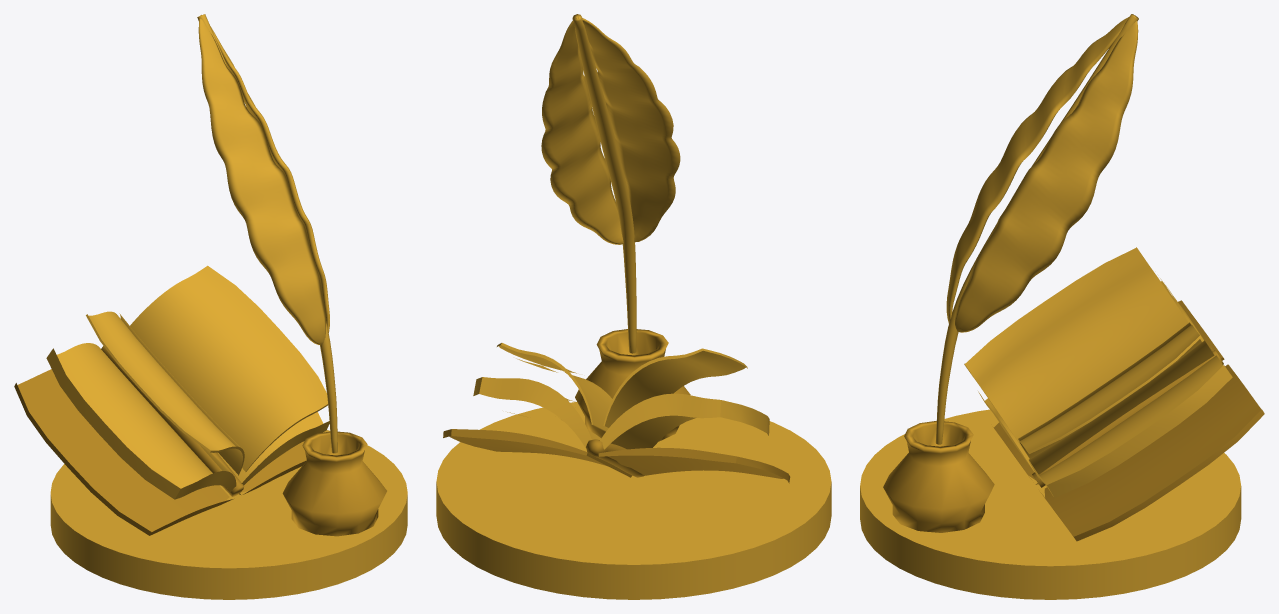
The model's file is literature.glb.
3 views of the same model, side by side, from view 1: azimuth 30°, elevation 25°; view 2: azimuth 150°, elevation 25°; view 3: azimuth 270°, elevation 25° (orthographic). The views are drawn at different scales.
Visible parts, largest first — view 1: gold_cap, leaf_l, vane_b, pages_r, cover_r, ink_bottle, leaf_r, vane_a, pages_l, quill_shaft, cover_l, spine; view 2: gold_cap, vane_b, vane_a, pages_r, quill_shaft, leaf_r, ink_bottle, cover_r, pages_l, cover_l, leaf_l, spine; view 3: gold_cap, leaf_r, vane_a, cover_l, pages_l, ink_bottle, vane_b, leaf_l, quill_shaft, spine, cover_r, pages_r.
Part boxes in pixels (left/top/right/bottom): gold_cap: left=50, top=430, right=407, bottom=599; leaf_l: left=130, top=265, right=327, bottom=471; vane_b: left=198, top=15, right=325, bottom=344; pages_r: left=46, top=343, right=236, bottom=499; cover_r: left=14, top=369, right=233, bottom=535; ink_bottle: left=282, top=431, right=386, bottom=536; leaf_r: left=86, top=311, right=244, bottom=475; vane_a: left=201, top=15, right=329, bottom=332; pages_l: left=217, top=412, right=329, bottom=485; quill_shaft: left=197, top=14, right=337, bottom=453; cover_l: left=239, top=441, right=306, bottom=494; spine: left=101, top=346, right=244, bottom=496; gold_cap: left=436, top=402, right=831, bottom=599; vane_b: left=578, top=16, right=680, bottom=242; vane_a: left=541, top=17, right=623, bottom=244; pages_r: left=600, top=393, right=769, bottom=449; quill_shaft: left=572, top=14, right=636, bottom=353; leaf_r: left=603, top=348, right=747, bottom=428; ink_bottle: left=575, top=329, right=690, bottom=441; cover_r: left=598, top=447, right=790, bottom=483; pages_l: left=473, top=377, right=600, bottom=447; cover_l: left=443, top=429, right=632, bottom=477; leaf_l: left=497, top=343, right=612, bottom=431; spine: left=586, top=439, right=644, bottom=477; gold_cap: left=860, top=409, right=1241, bottom=599; leaf_r: left=964, top=247, right=1188, bottom=458; vane_a: left=954, top=16, right=1138, bottom=332; cover_l: left=1040, top=364, right=1264, bottom=541; pages_l: left=1028, top=340, right=1232, bottom=497; ink_bottle: left=883, top=421, right=994, bottom=532; vane_b: left=946, top=15, right=1134, bottom=323; leaf_l: left=1018, top=322, right=1201, bottom=458; quill_shaft: left=935, top=14, right=1138, bottom=444; spine: left=1032, top=350, right=1223, bottom=487; cover_r: left=993, top=300, right=1224, bottom=484; pages_r: left=978, top=278, right=1203, bottom=472.
Size of the model in its own units: 0.2687 by 0.3938 by 0.2827.
